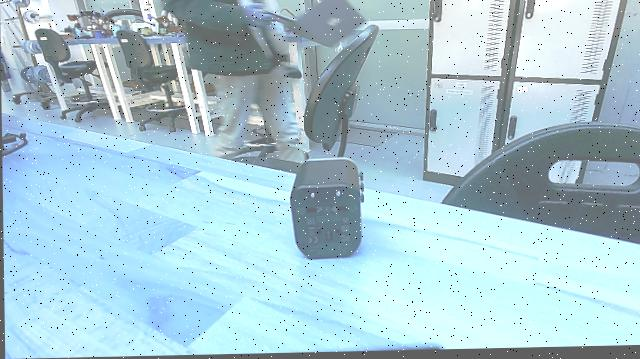adapter: (288, 158, 367, 265)
